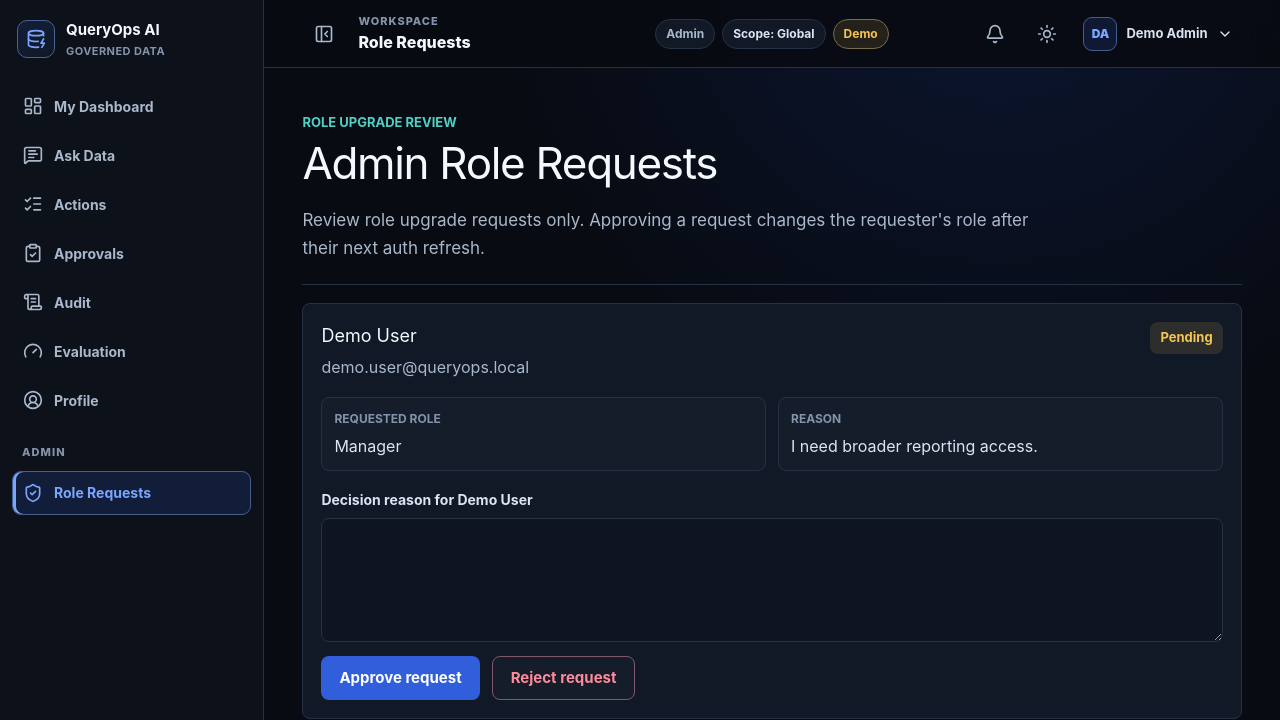
Test case: Admin Role Requests › reloads the authoritative state after a losing approve
Step 1. Type "Review" into the text box labelled "Decision reason for Demo User" → [772, 580], box x1=321 y1=518 x2=1223 y2=642
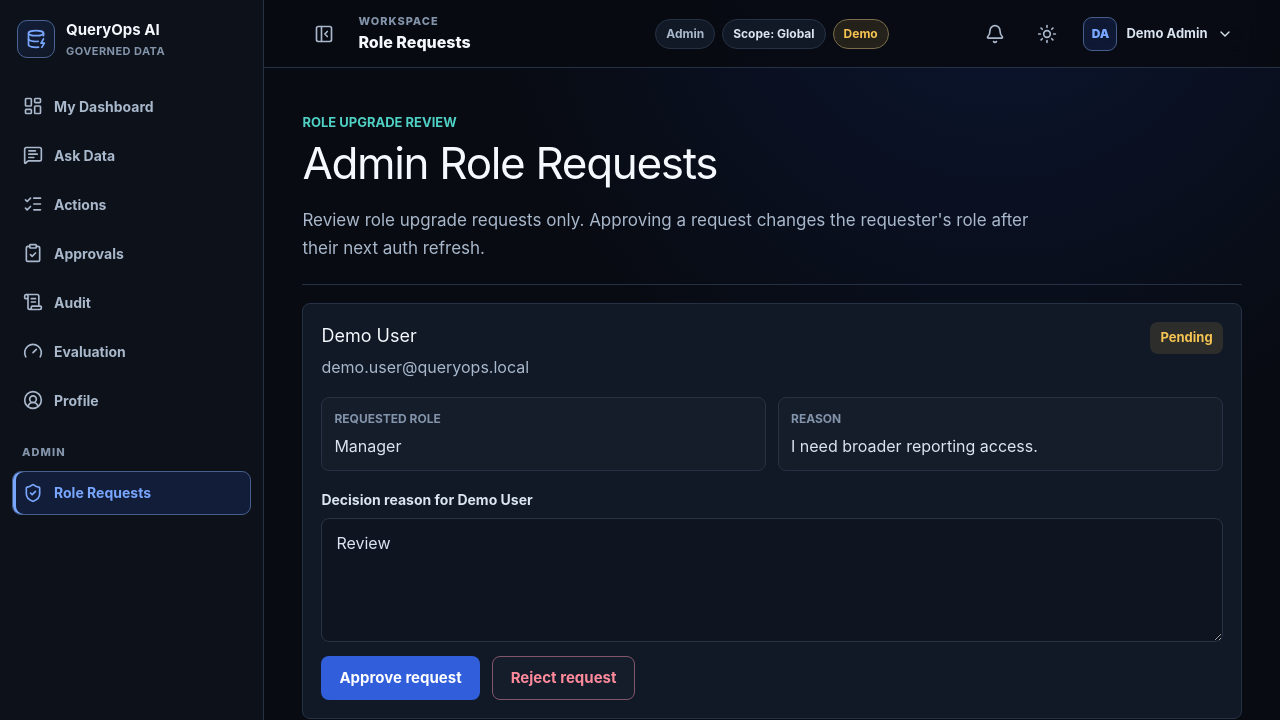
Step 2. Click the button with aria-label "Approve role request from Demo User" → [401, 678], box x1=321 y1=656 x2=480 y2=700
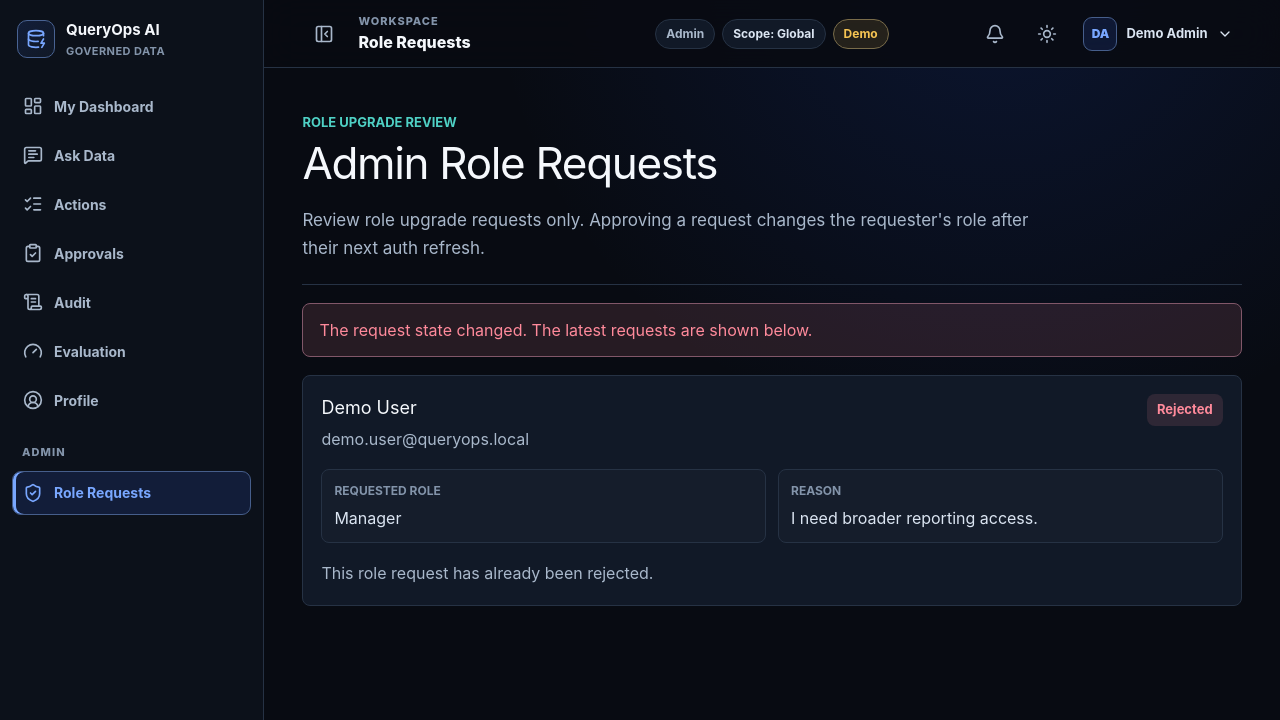
Expected: the message reads "The request state changed. The latest requests are shown below.", x1=319 y1=320 x2=812 y2=340
